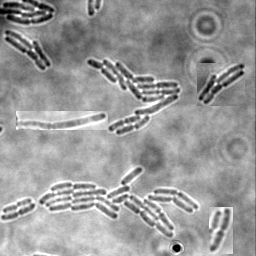Dividing: (16, 111, 108, 130), (209, 207, 233, 254), (1, 204, 37, 222), (3, 199, 33, 215)
Microcolony: (40, 167, 199, 238), (87, 59, 181, 136), (197, 63, 245, 106), (5, 30, 52, 72), (1, 1, 56, 26)
